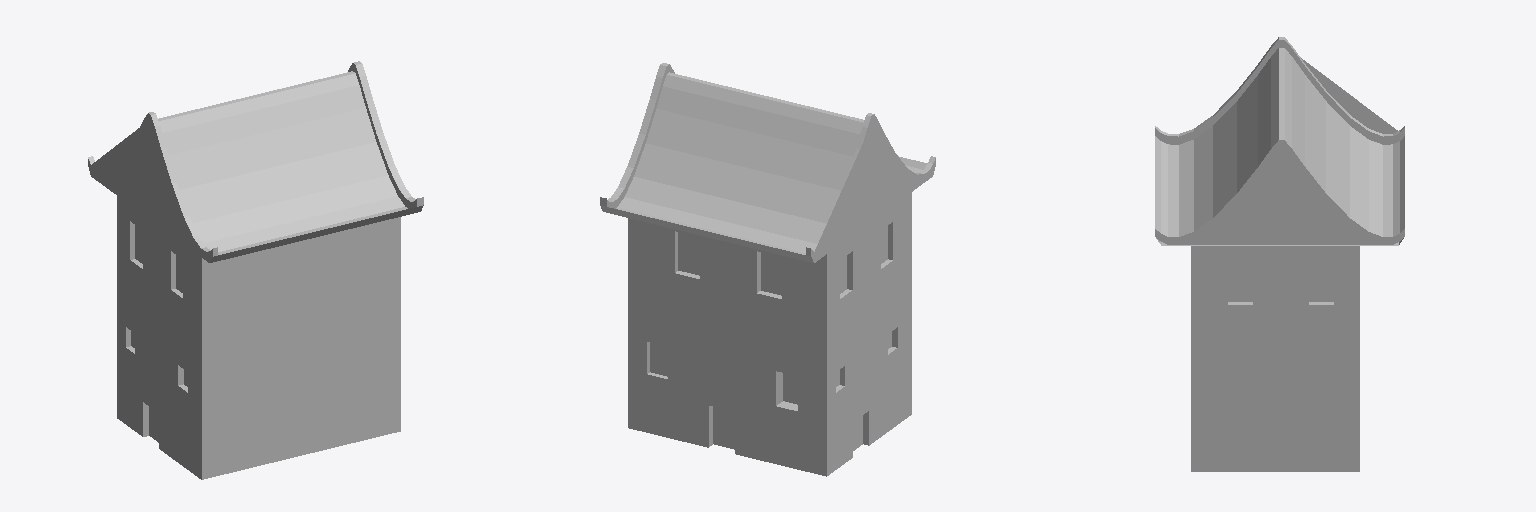
Rendered from haus6.obj.
3 renders of one model, left to right at view 1: azimuth 30°, elevation 25°; view 2: azimuth 150°, elevation 25°; view 3: azimuth 270°, elevation 25°, orthographic.
Visible parts, largest first — view 1: Box005, Arc005; view 2: Box005, Arc005; view 3: Box005, Arc005.
Part boxes in pixels (left/top/right/bottom): Box005: left=117, top=196, right=400, bottom=479; Arc005: left=88, top=61, right=423, bottom=262; Box005: left=628, top=192, right=911, bottom=476; Arc005: left=600, top=63, right=935, bottom=262; Box005: left=1191, top=246, right=1359, bottom=471; Arc005: left=1155, top=37, right=1404, bottom=245.
Size of the model in its own units: 729 by 1103 by 745.